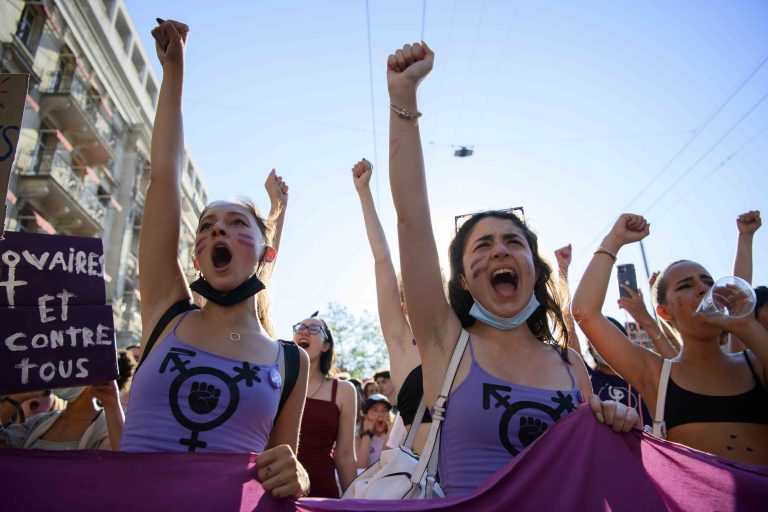with_incorrect_mask: (461, 228, 543, 333), (195, 210, 265, 306)
without_mask: (669, 270, 730, 349), (296, 322, 328, 358)
